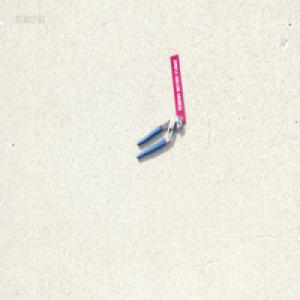Label: (169, 52, 186, 122)
Pliers: (135, 114, 182, 160)
